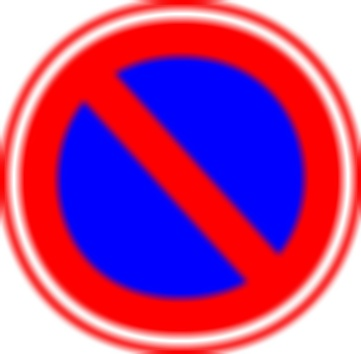Prohibition_sign: (1, 2, 359, 351)
